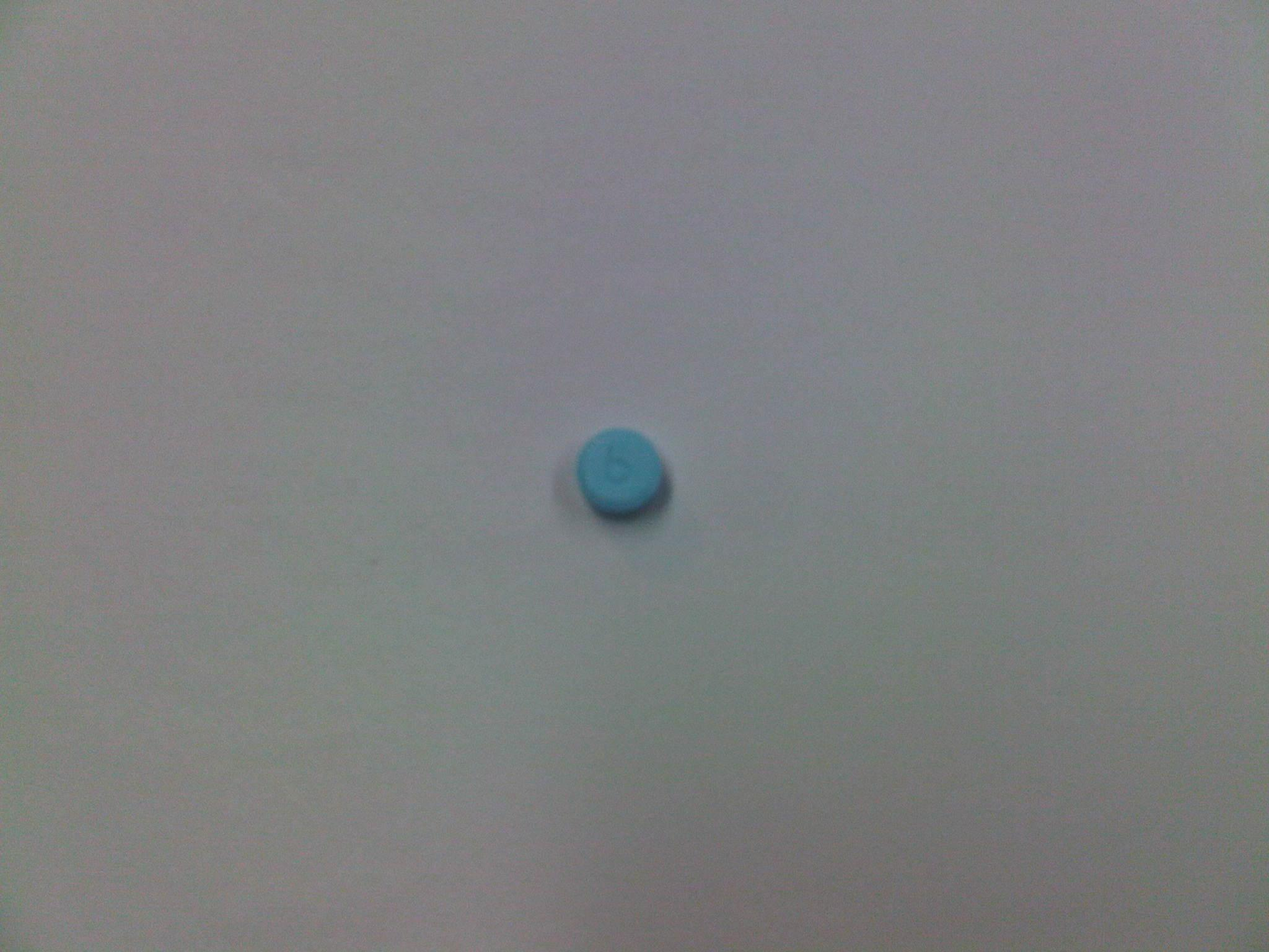Pill: (572, 419, 673, 528)
